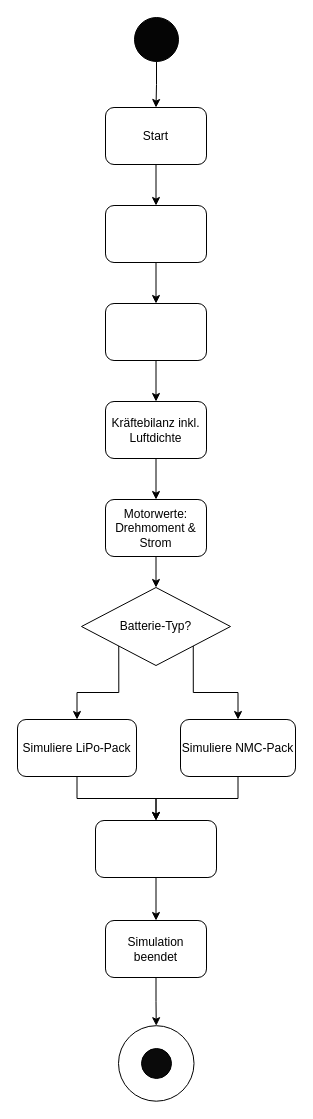
Image size: 313x1119. Some labels were removed from this diagram. The shapes that lost their labels are listed below. From the top down, each one's centre as x and y in pixels, then its label:
the point at 155,233: CSV-Datei laden
the point at 155,331: Route-Kinematik berechnen
the point at 155,849: Ergebnisse plotten & speichern
